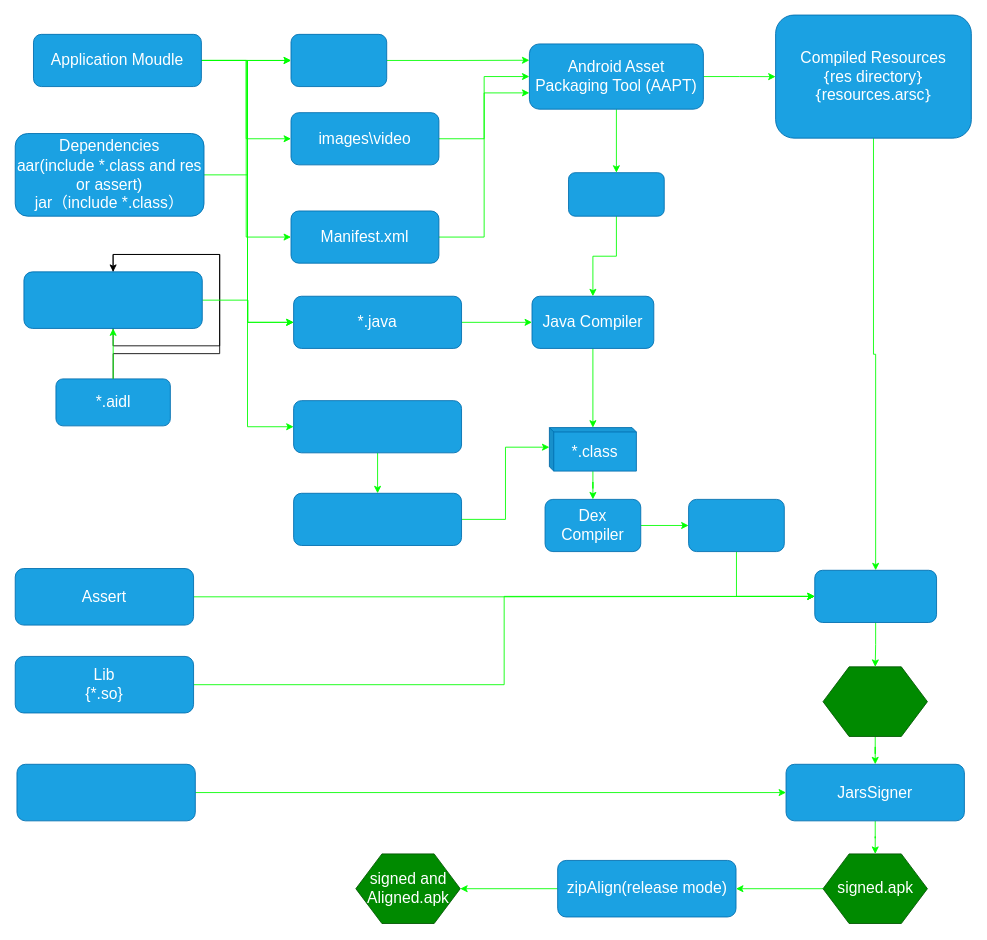
This 987x940 diagram has some shape labels left out. Here are the shapes that lost their labels. From the top down, the centre of each, then its label:
(x=338, y=60): *.xml
(x=616, y=194): R.java
(x=112, y=299): Aidl Compiler
(x=377, y=426): *.kt
(x=377, y=518): Kotlin Compiler
(x=736, y=525): *.dex
(x=875, y=595): APK Builder
(x=874, y=701): target.apk
(x=105, y=792): Debug Or Release KeyStore
